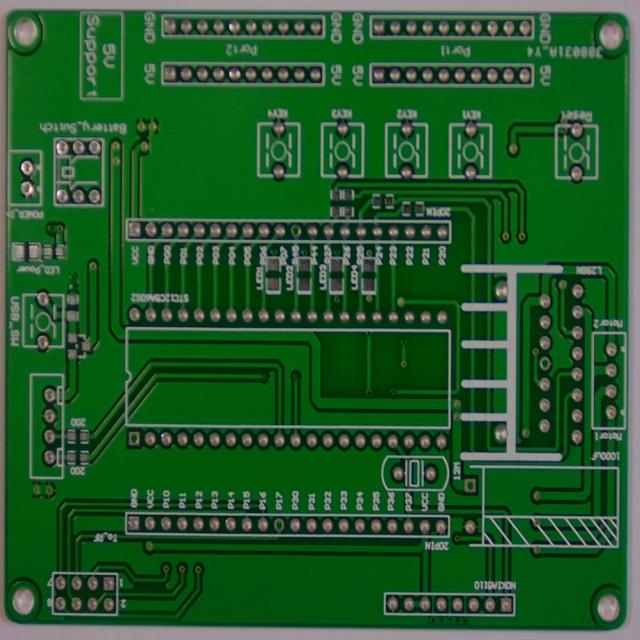missing_hole: (271, 515, 286, 536), (463, 476, 478, 496), (126, 428, 141, 448), (288, 221, 303, 240), (539, 354, 551, 371)
